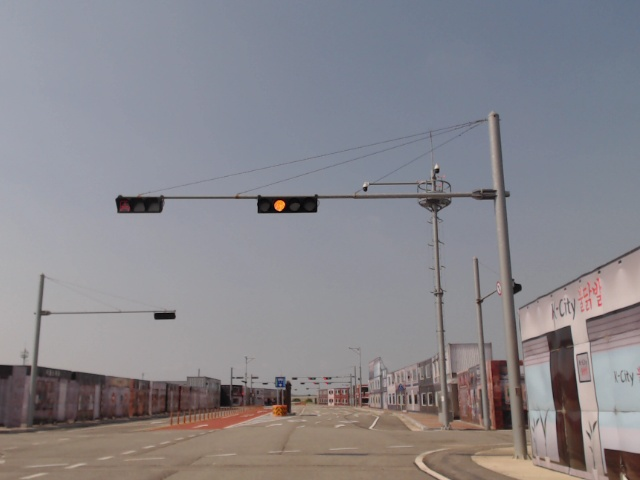orange_4: (258, 196, 318, 215)
